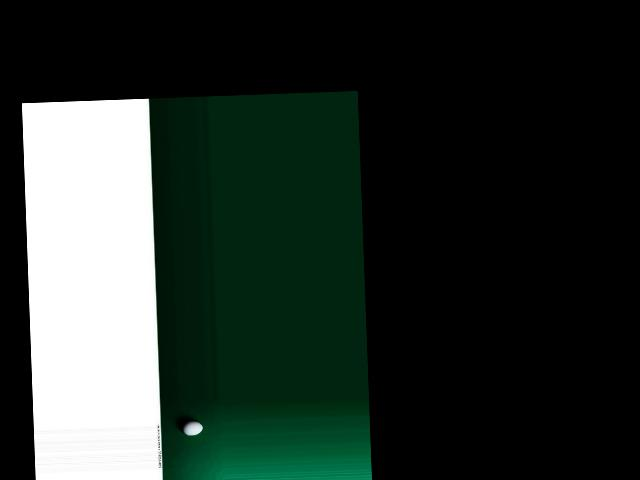egg: (181, 421, 202, 436)
